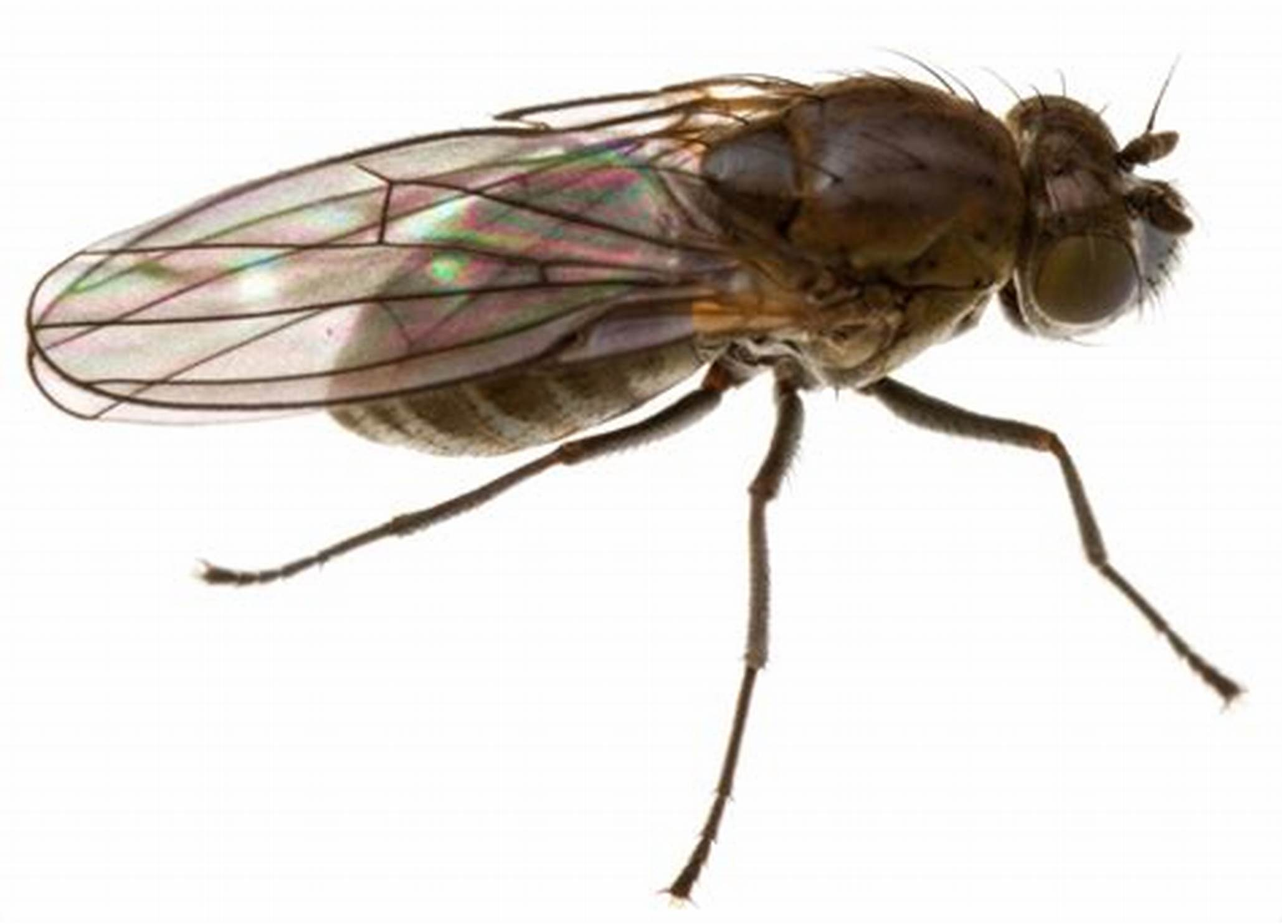Ephydridae: (26, 53, 1242, 900)
